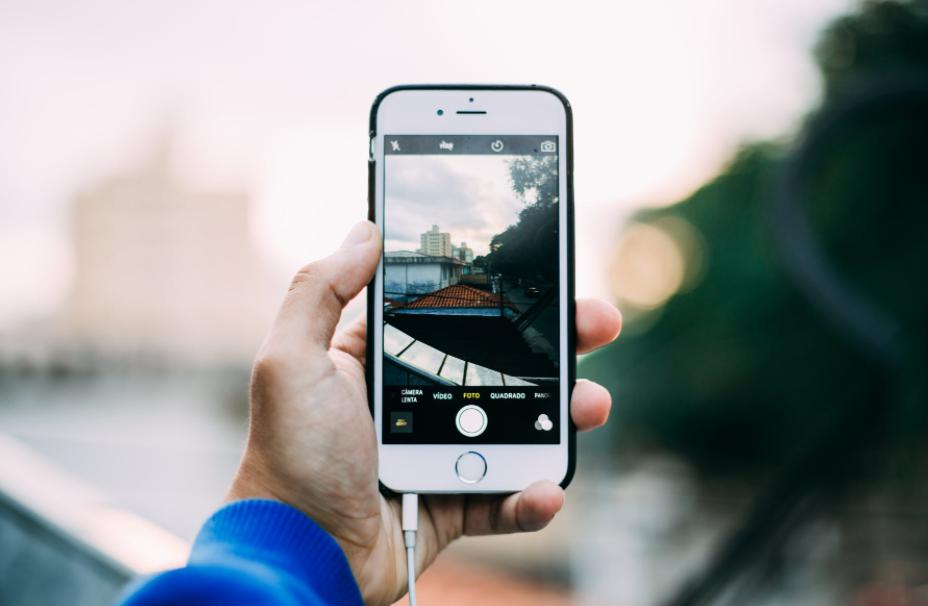mobile: (366, 84, 578, 499)
